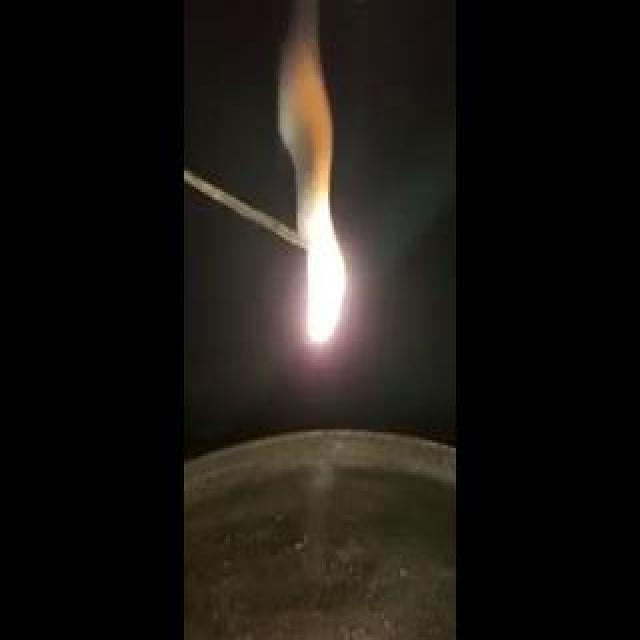Fire: (82, 232, 315, 262)
